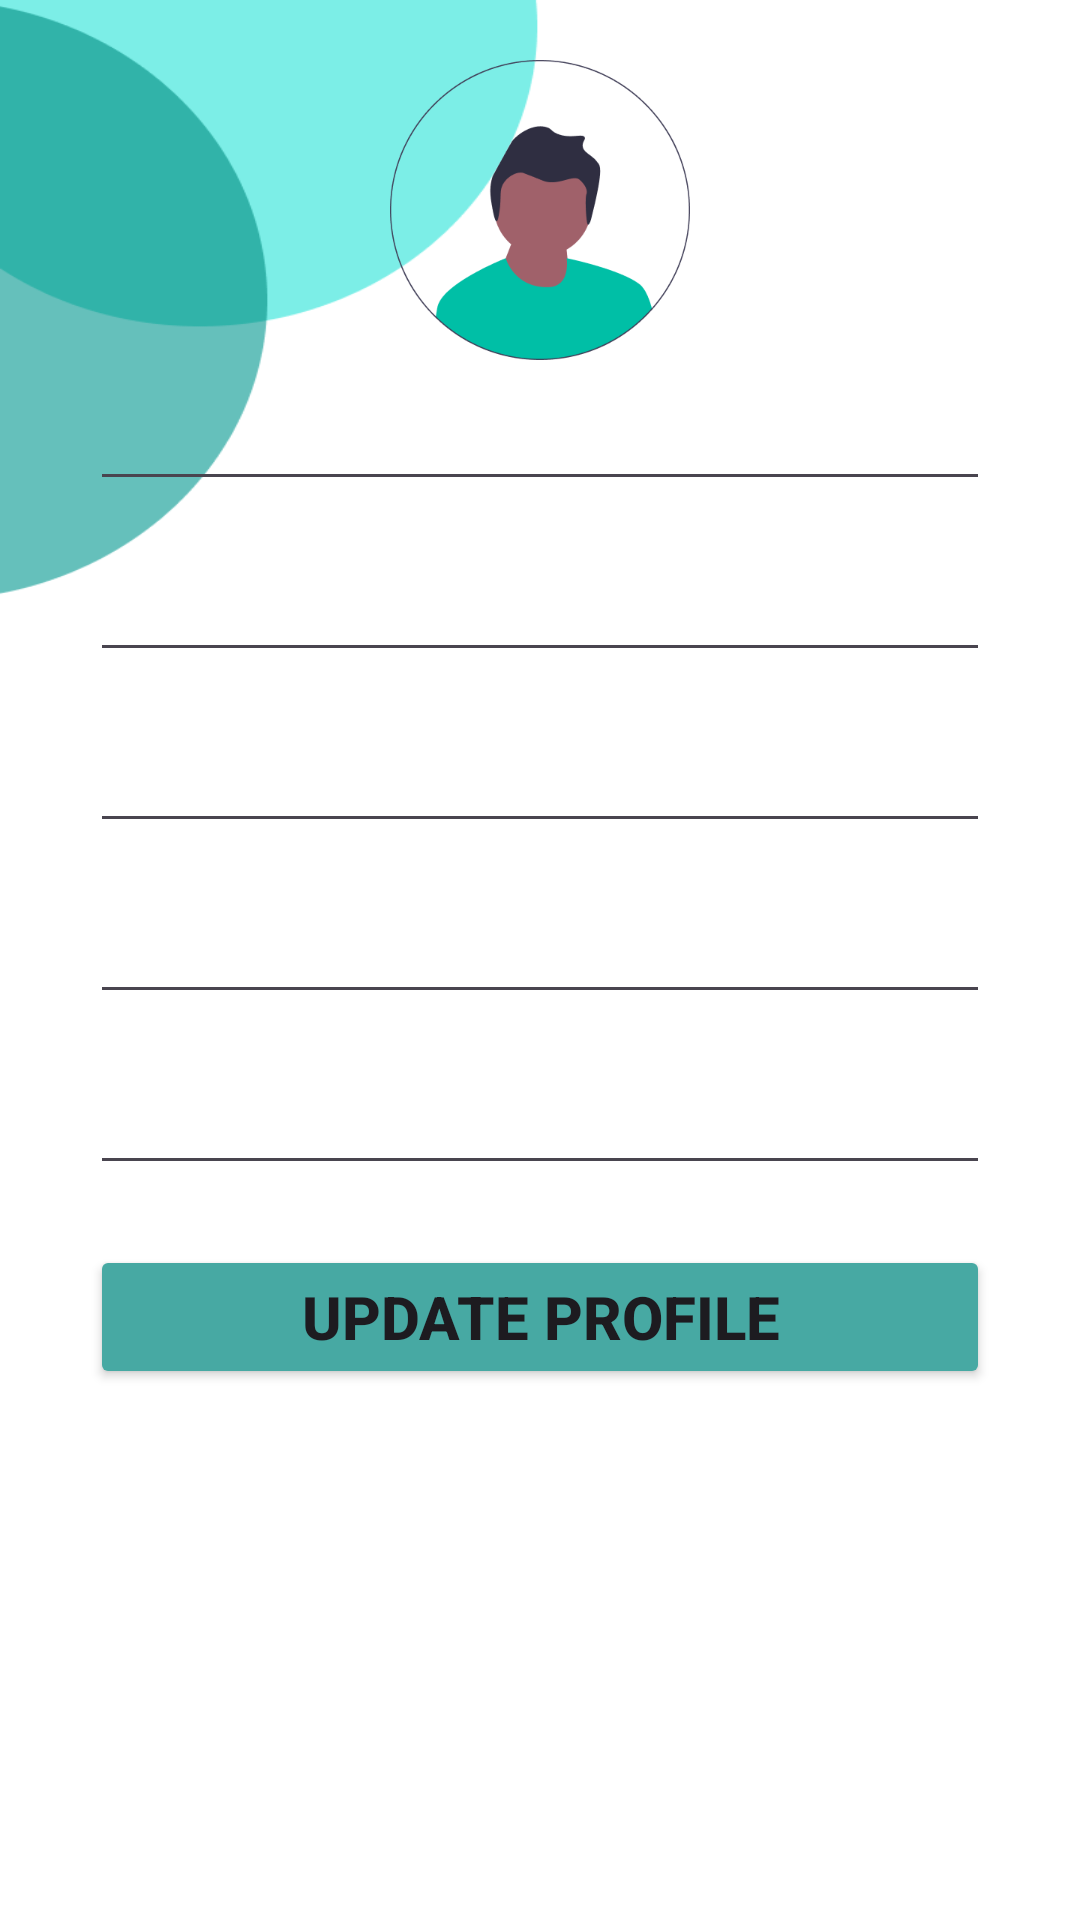

Named icons in this screenshot (1080px x 1920px) and their centers, (x,y):
userprofile: (540,210)
